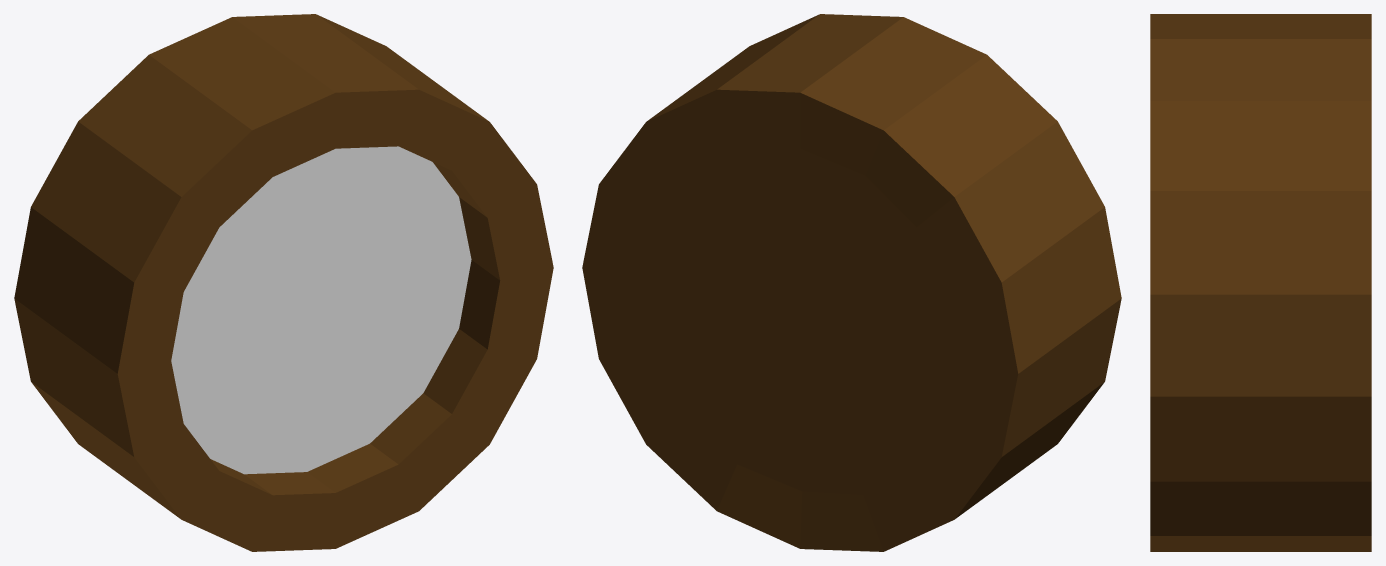
The model's file is battery basic.fbx.
3 views of the same model, side by side, from view 1: azimuth 30°, elevation 25°; view 2: azimuth 150°, elevation 25°; view 3: azimuth 270°, elevation 25° (orthographic). The views are drawn at different scales.
Parts seen in each view (by area): view 1: battery; view 2: battery; view 3: battery.
Boxes of the visible parts, x1=… form: battery: x1=14, y1=14, x2=553, y2=551; battery: x1=582, y1=14, x2=1121, y2=551; battery: x1=1150, y1=14, x2=1371, y2=551.
Bounding box in the file's own units: 82.84 × 82.84 × 34.03.
